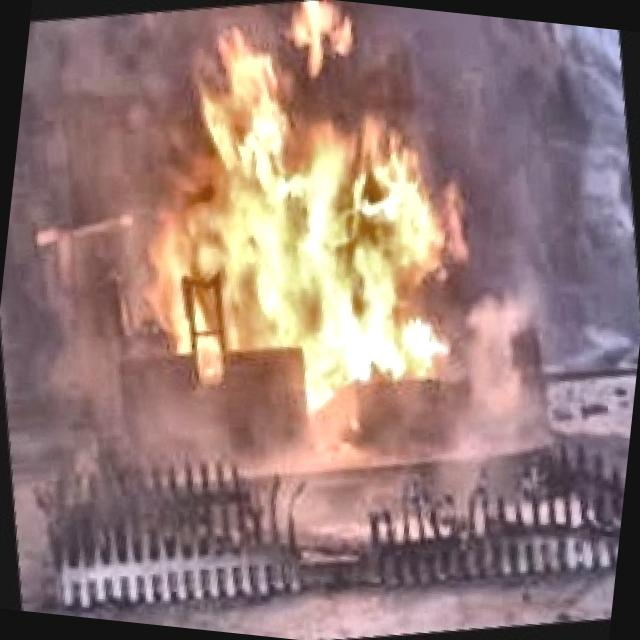fire: (61, 0, 537, 459)
